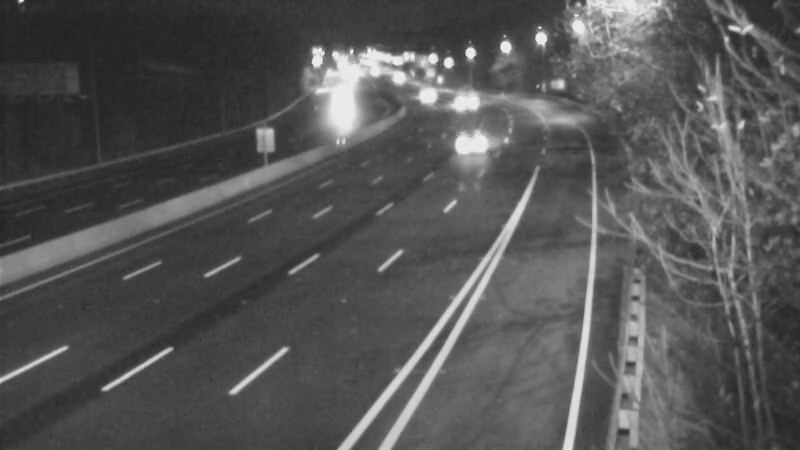vehicle: (369, 52, 419, 102), (402, 74, 452, 124), (437, 81, 487, 131), (447, 120, 497, 170), (311, 77, 361, 127)
